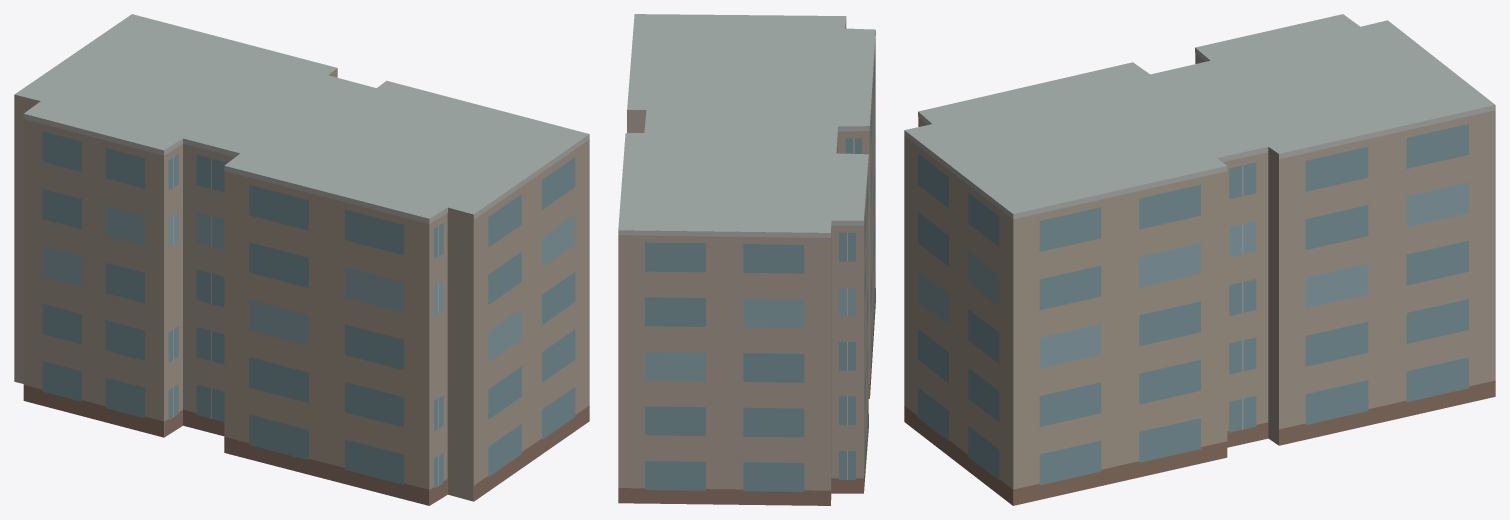
Rendered from survey-upis-32658028.glb.
3 renders of one model, left to right at view 1: azimuth 30°, elevation 25°; view 2: azimuth 150°, elevation 25°; view 3: azimuth 270°, elevation 25°, orthographic. The views are drawn at different scales.
Parts seen in each view (by area): view 1: survey-upis-32658028.tmp; view 2: survey-upis-32658028.tmp; view 3: survey-upis-32658028.tmp.
Part boxes in pixels (x1,y1,x2,y2): survey-upis-32658028.tmp: (14,14,589,505); survey-upis-32658028.tmp: (618,14,875,505); survey-upis-32658028.tmp: (904,14,1495,505).
Bounding box in the file's own units: 19.57 × 13.3 × 24.43.
